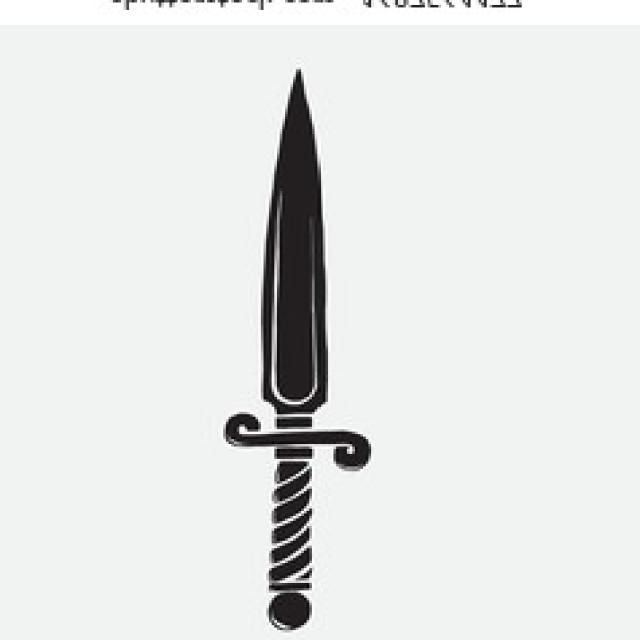Gun: (199, 57, 382, 640)
